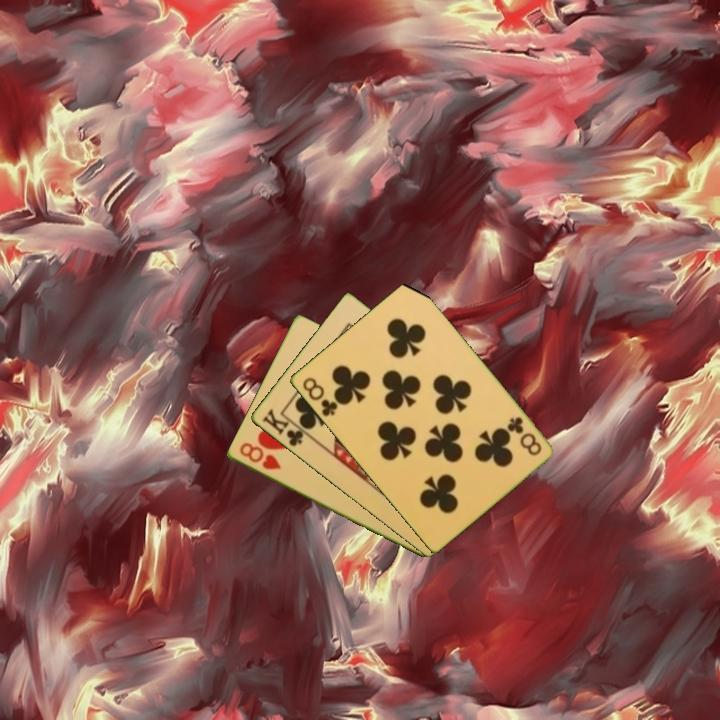8c: (298, 373, 340, 420), (503, 413, 544, 459)
8h: (235, 439, 283, 473)
Kc: (258, 405, 312, 450)
